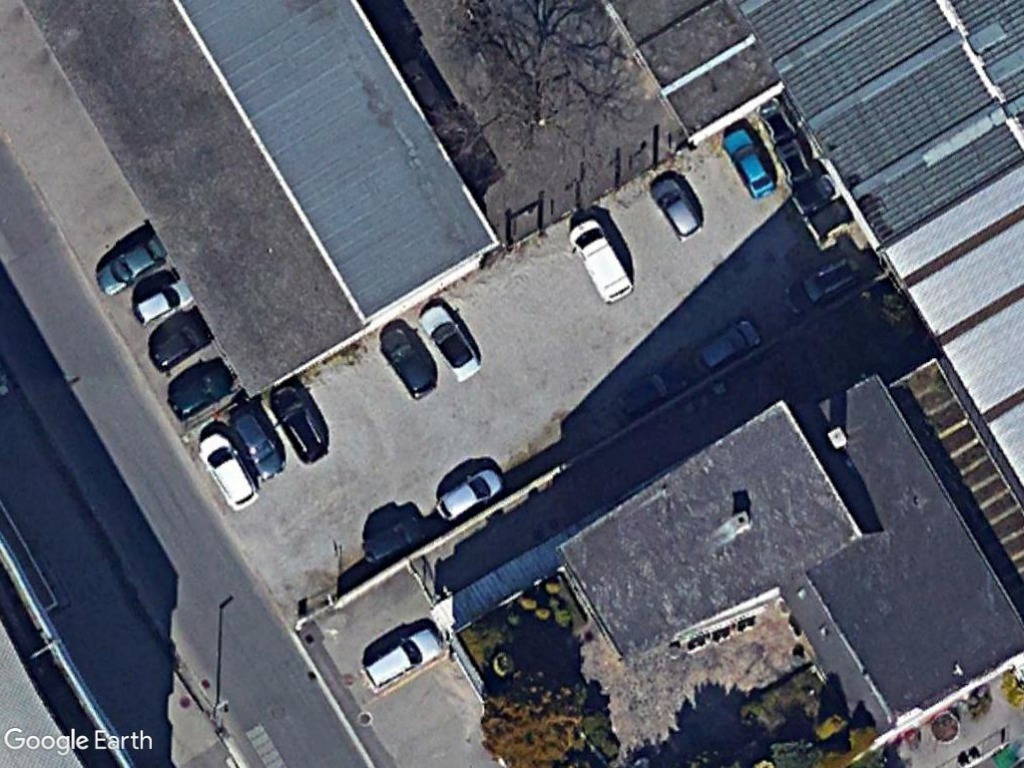car: (361, 625, 445, 693), (417, 302, 484, 382), (194, 434, 261, 512), (93, 234, 166, 298), (433, 465, 508, 522), (720, 128, 779, 200), (650, 174, 706, 244), (131, 277, 198, 328)
van: (564, 213, 636, 305)
